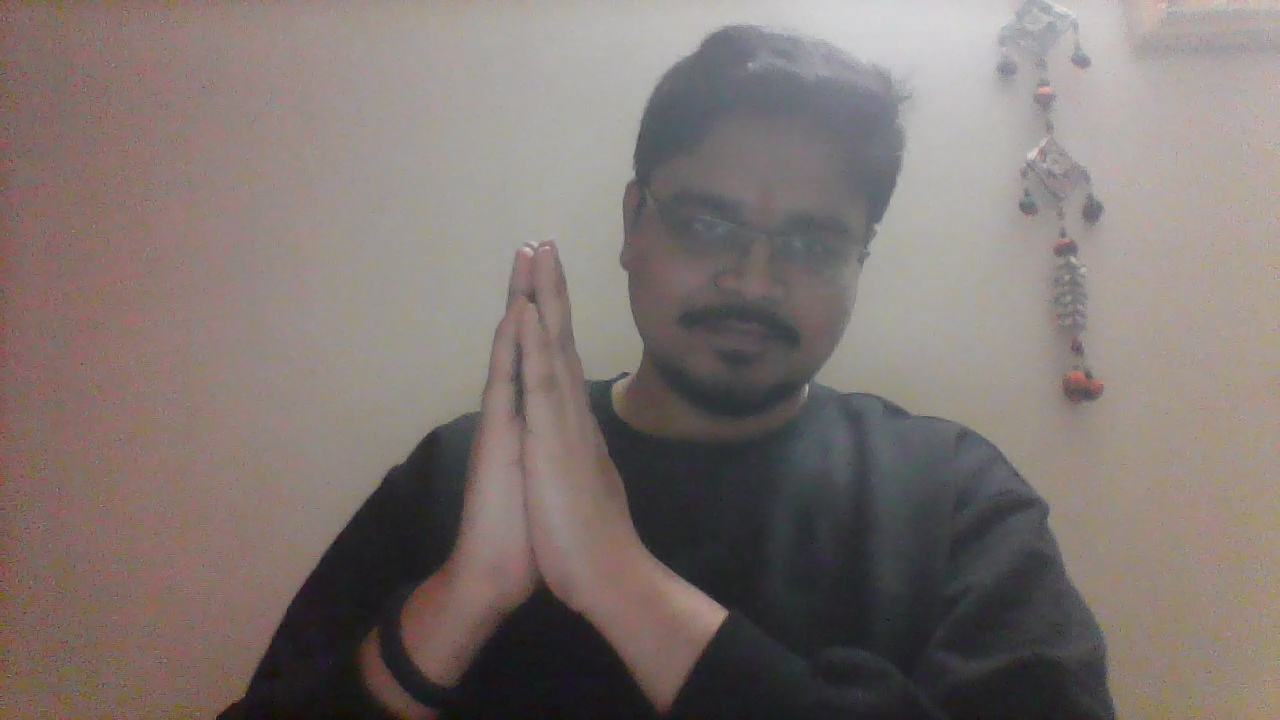Namaste: (429, 236, 620, 636)
